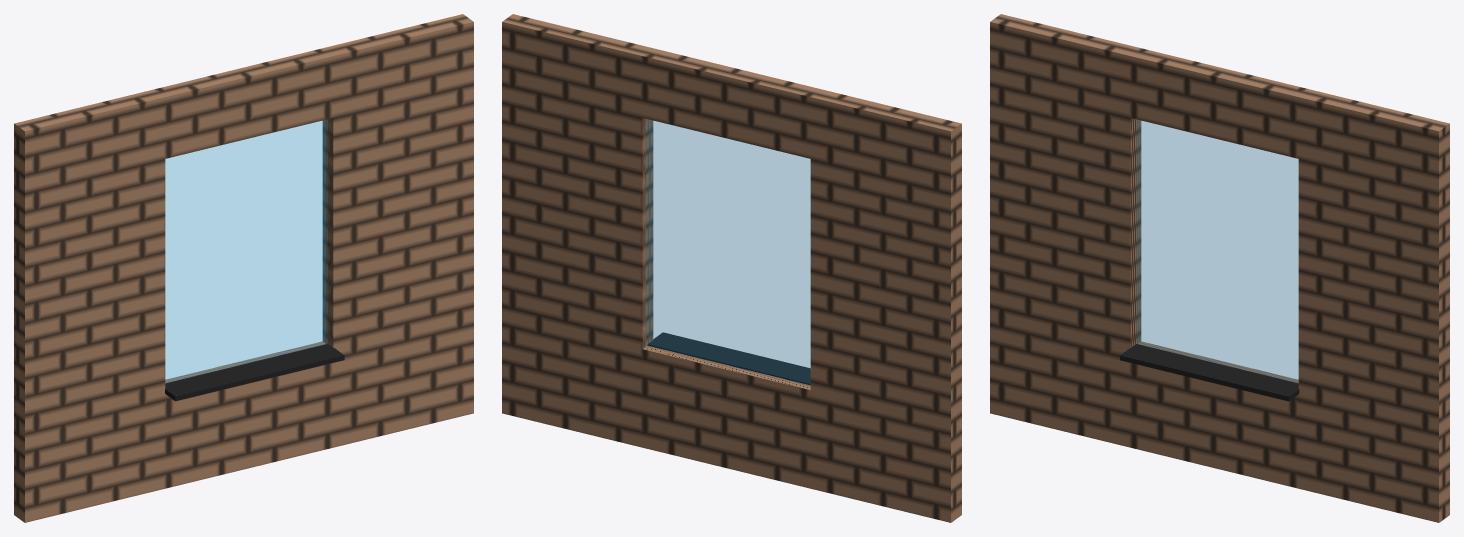
The model's file is SM_wall_brick_window_03.fbx.
3 views of the same model, side by side, from view 1: azimuth 30°, elevation 25°; view 2: azimuth 150°, elevation 25°; view 3: azimuth 330°, elevation 25° (orthographic).
Visible parts, largest first — view 1: wall_brick_window_03; view 2: wall_brick_window_03; view 3: wall_brick_window_03.
Boxes of the visible parts, box(x1,y1,x2,y2) form: wall_brick_window_03: box(14, 14, 473, 522); wall_brick_window_03: box(502, 14, 961, 522); wall_brick_window_03: box(990, 14, 1449, 522).
Bounding box in the file's own units: 300 × 250 × 24.49.
Materials: 3 (1 with a texture image).
